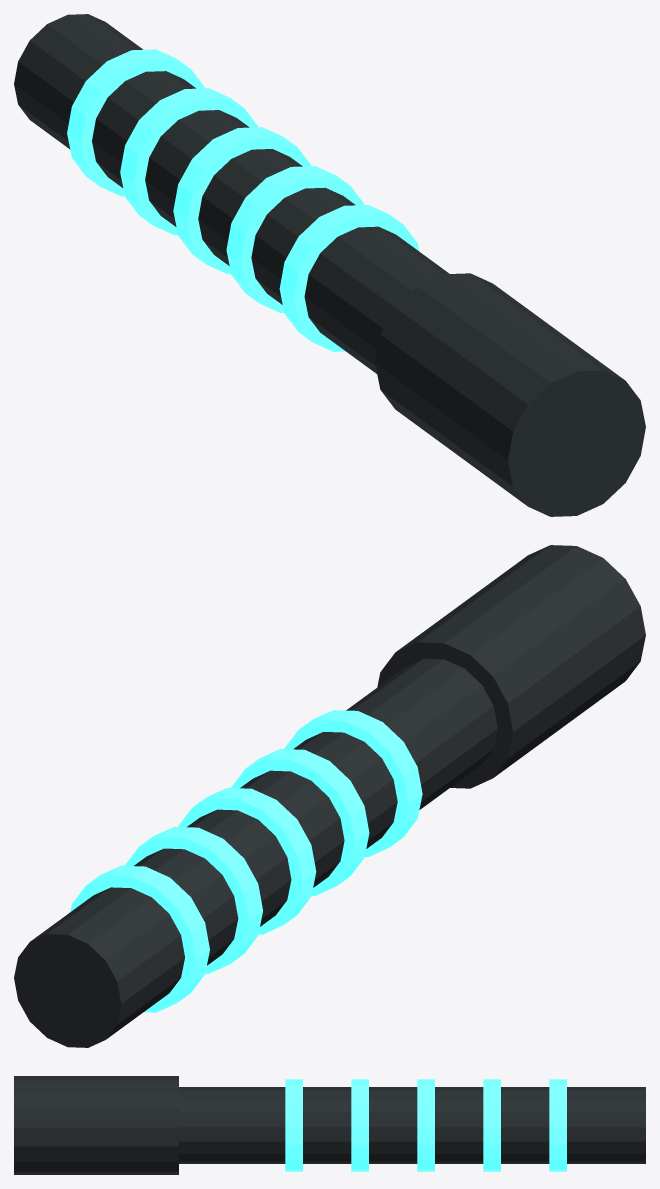
File: held_baton.glb
The picture shows the model from 3 angles, top to bottom: view 1: azimuth 30°, elevation 25°; view 2: azimuth 150°, elevation 25°; view 3: azimuth 270°, elevation 25°; orthographic projection. The views are drawn at different scales.
Parts seen in each view (by area): view 1: Cylinder.001, Cylinder, Cylinder.002, Cylinder.005, Cylinder.006, Cylinder.004, Cylinder.003; view 2: Cylinder, Cylinder.001, Cylinder.006, Cylinder.002, Cylinder.003, Cylinder.004, Cylinder.005; view 3: Cylinder, Cylinder.001, Cylinder.002, Cylinder.003, Cylinder.004, Cylinder.005, Cylinder.006.
Part boxes in pixels (box(x1,y1,x2,y2)): Cylinder.001: box(375, 273, 645, 516); Cylinder: box(14, 14, 449, 373); Cylinder.002: box(279, 205, 418, 351); Cylinder.005: box(120, 88, 258, 235); Cylinder.006: box(67, 49, 204, 196); Cylinder.004: box(173, 127, 311, 273); Cylinder.003: box(226, 166, 364, 312); Cylinder: box(14, 658, 497, 1047); Cylinder.001: box(377, 545, 645, 788); Cylinder.006: box(70, 865, 209, 1012); Cylinder.002: box(284, 710, 422, 856); Cylinder.003: box(231, 749, 369, 895); Cylinder.004: box(178, 788, 316, 934); Cylinder.005: box(125, 826, 262, 973); Cylinder: box(179, 1087, 645, 1163); Cylinder.001: box(14, 1076, 178, 1174); Cylinder.002: box(285, 1079, 302, 1171); Cylinder.003: box(351, 1079, 368, 1171); Cylinder.004: box(417, 1079, 434, 1171); Cylinder.005: box(483, 1079, 500, 1171); Cylinder.006: box(549, 1079, 566, 1171).
Bounding box in the file's own units: 0.09 × 0.09 × 0.575.
